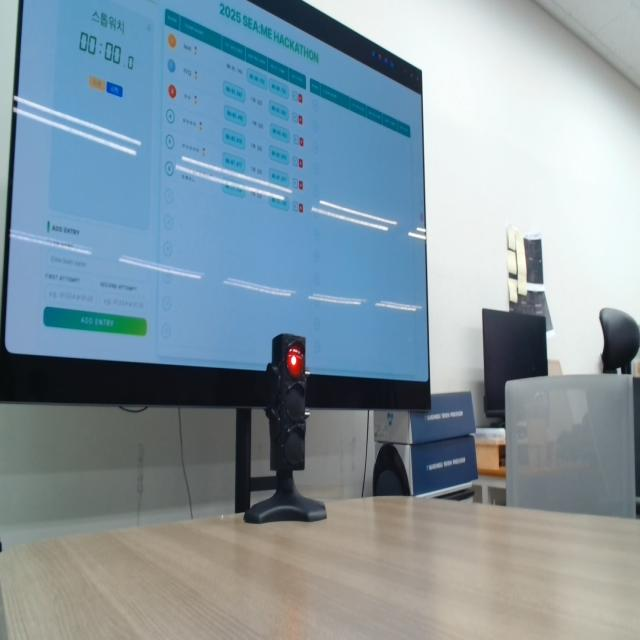red_light: (287, 345, 304, 378)
